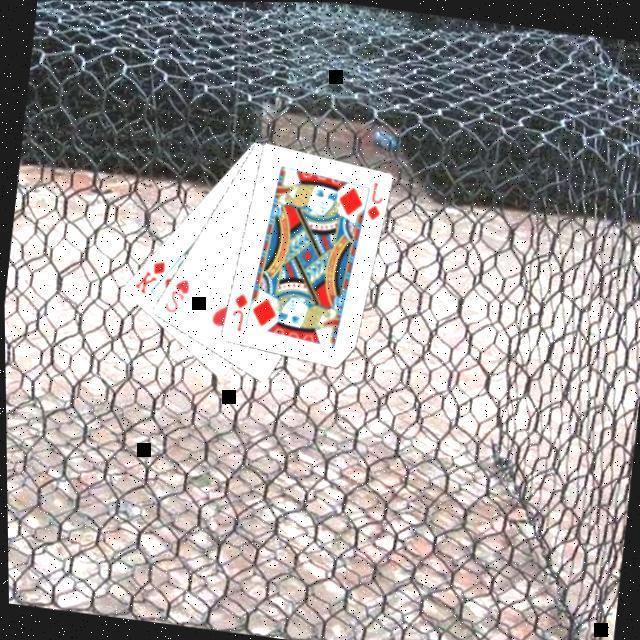2H: (160, 272, 193, 316)
JD: (226, 288, 252, 334), (363, 176, 389, 222)
KD: (129, 254, 170, 298)
